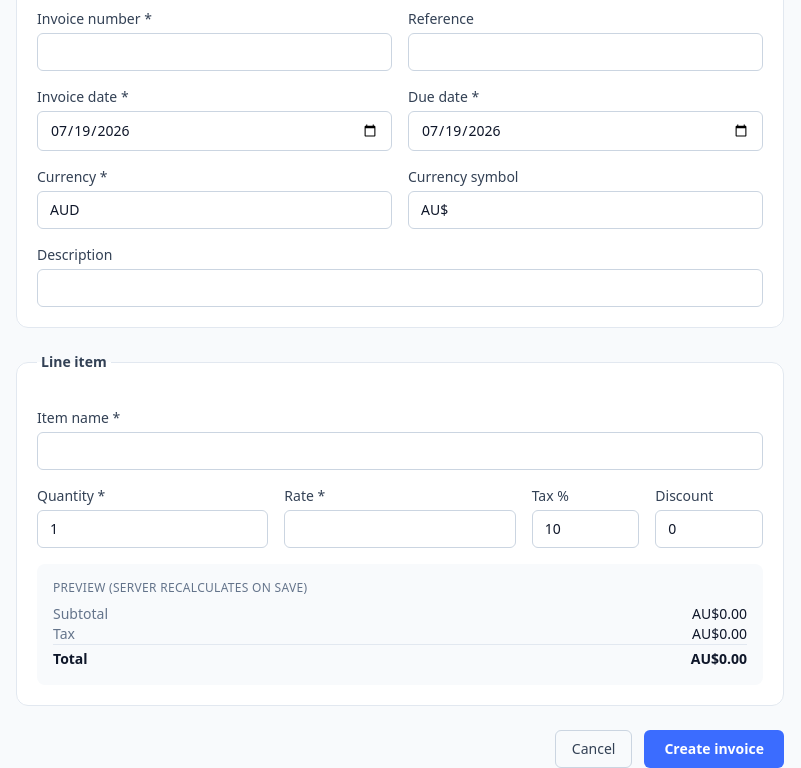
CreateInvoicePage › computes a live client-side preview of totals
The width and height of the screenshot is (801, 768).
(page scrolled)
Type "1000" into the number field labelled "Rate *".
click(400, 529); type("1000")  # box [284, 510, 516, 548]
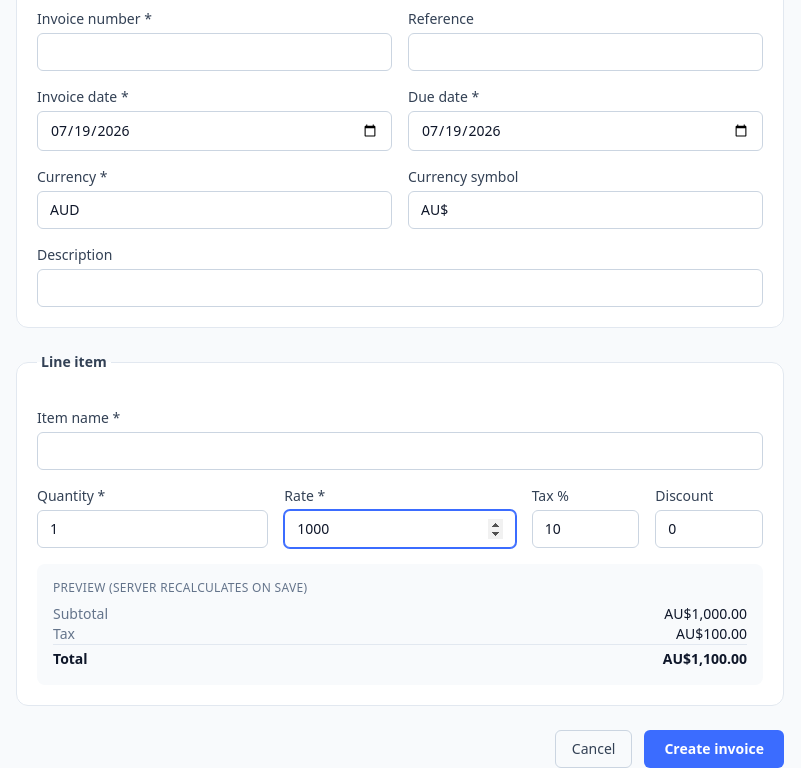
Replace the text in the number field labelled "Quantity *" with "2" at point(153, 529), box [37, 510, 268, 548]
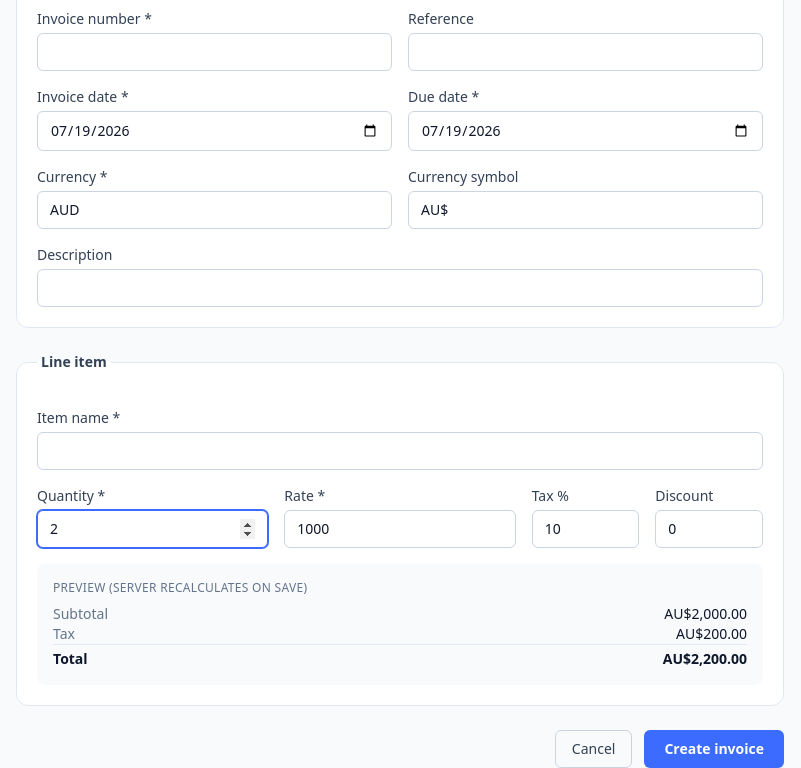
Expected: the element with test id "totals-preview" shows "2,200.00", [663, 649, 747, 668]
